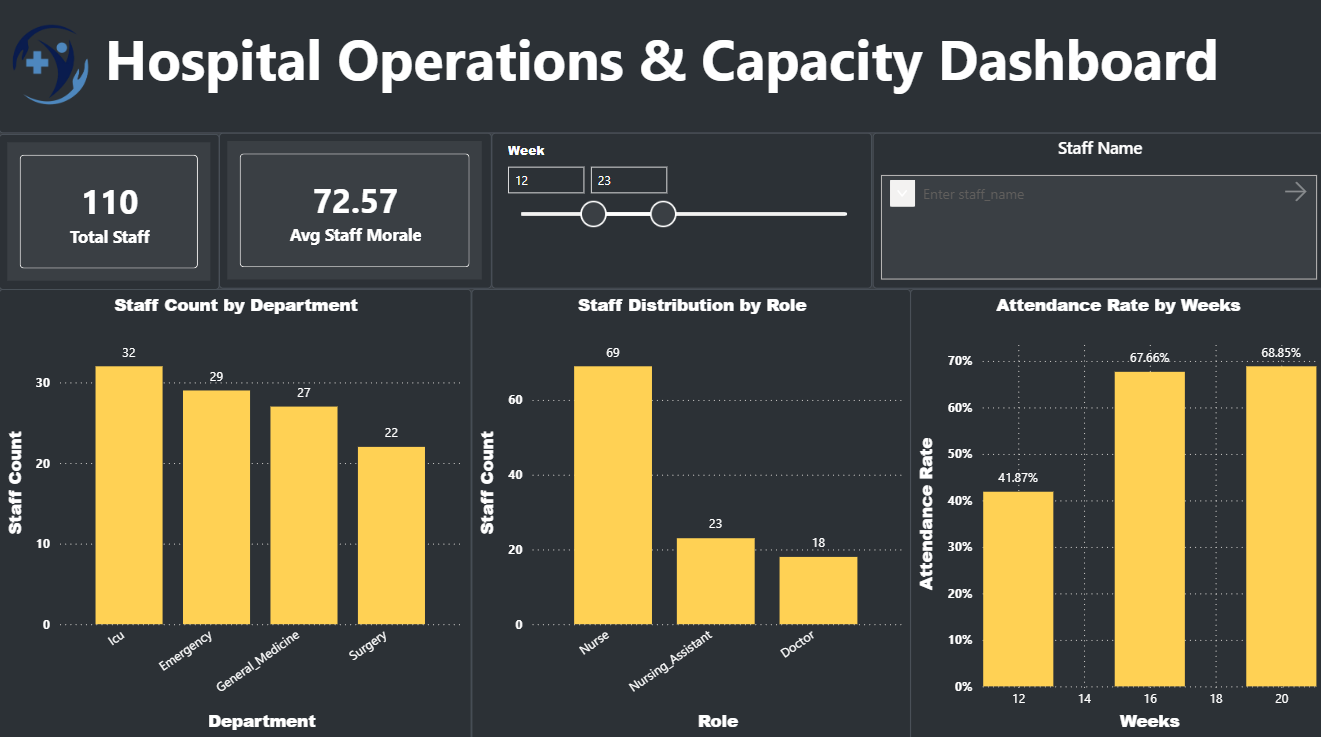

What the dashboard file says about the page in this screenshot:
{"tool":"powerbi","page":{"name":"Staff","canvas":[1280,720],"ordinal":2},"visuals":[{"type":"cardVisual","fields":{"Data":["CountNonNull(staff.staff_id)"]},"box":[0,135.7,212.9,150],"z":0},{"type":"clusteredColumnChart","fields":{"Category":["staff.service"],"Y":["CountNonNull(staff.staff_id)"]},"box":[0,284.3,455.7,435.7],"z":1000},{"type":"clusteredColumnChart","title":"Staff Distribution by Role","fields":{"Category":["staff.role"],"Y":["CountNonNull(staff.staff_id)"]},"box":[455.7,284.3,424.3,435.7],"z":2000},{"type":"clusteredColumnChart","fields":{"Category":["staff_schedule.week (bins)"],"Y":["Avg(staff_schedule.present)"]},"box":[880,284.3,400,435.7],"z":3000},{"type":"textSlicer","title":"Staff Name","fields":{"Values":["staff.staff_name"]},"box":[842.9,134.3,437.1,150],"z":4000},{"type":"slicer","fields":{"Values":["staff_schedule.week"]},"box":[475.7,134.3,367.1,150],"z":5000},{"type":"cardVisual","fields":{"Data":["Avg(services_weekly.staff_morale)"]},"box":[212.9,134.3,262.9,150],"z":6000},{"type":"textbox","box":[0,0,1280,134.3],"z":7000},{"type":"image","box":[0,5.7,100,121.4],"z":8000}]}

Visuals, with their boxes in screenshot pixels (x1, y1, x2, y2), scaled from the page's 1280x720 canvas onto the 1321x737 screenshot:
cardVisual - CountNonNull(staff.staff_id): BBox(0, 139, 220, 292)
clusteredColumnChart - staff.service x CountNonNull(staff.staff_id): BBox(0, 291, 470, 736)
"Staff Distribution by Role" clusteredColumnChart: BBox(470, 291, 908, 736)
clusteredColumnChart - staff_schedule.week (bins) x Avg(staff_schedule.present): BBox(908, 291, 1320, 736)
"Staff Name" textSlicer: BBox(870, 137, 1320, 291)
slicer - staff_schedule.week: BBox(491, 137, 870, 291)
cardVisual - Avg(services_weekly.staff_morale): BBox(220, 137, 491, 291)
textbox: BBox(0, 0, 1320, 137)
image: BBox(0, 6, 103, 130)
